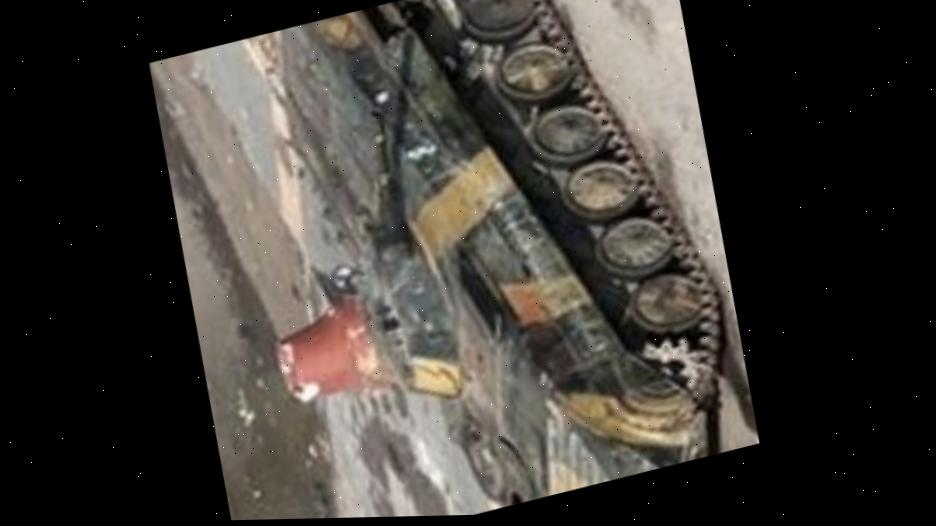armored_car: (204, 0, 783, 521)
